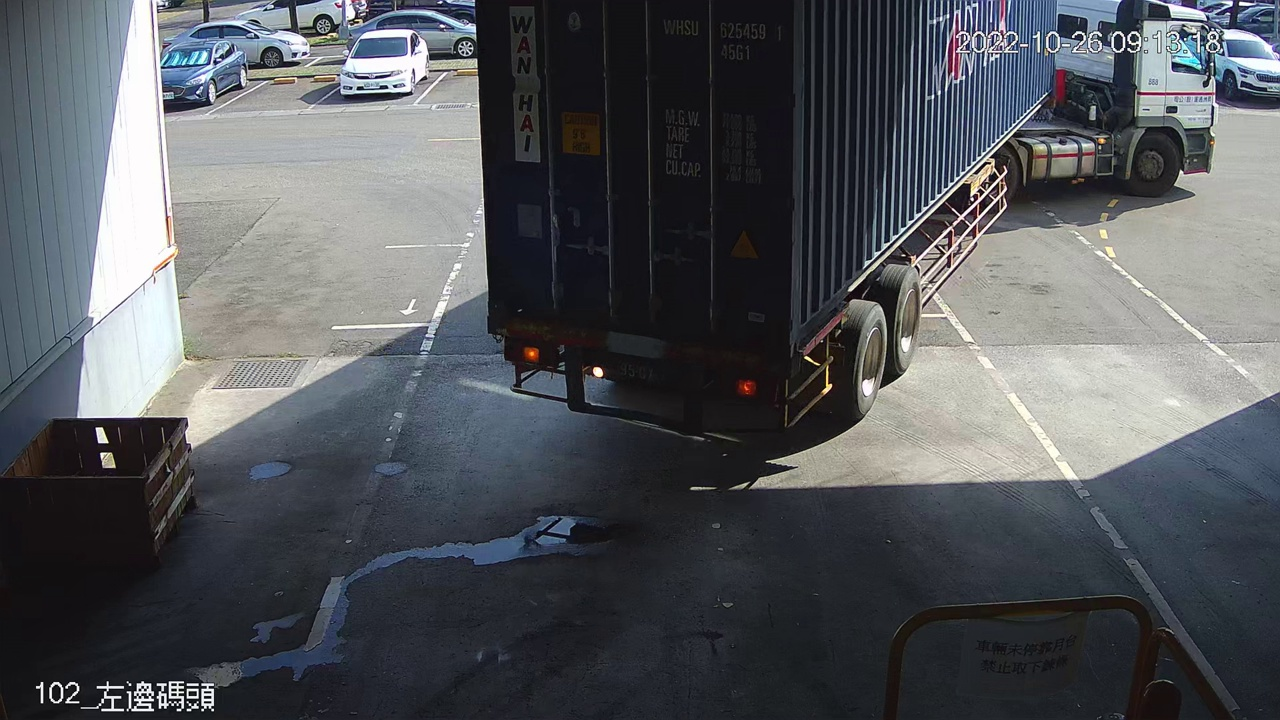container: (656, 9, 789, 67)
